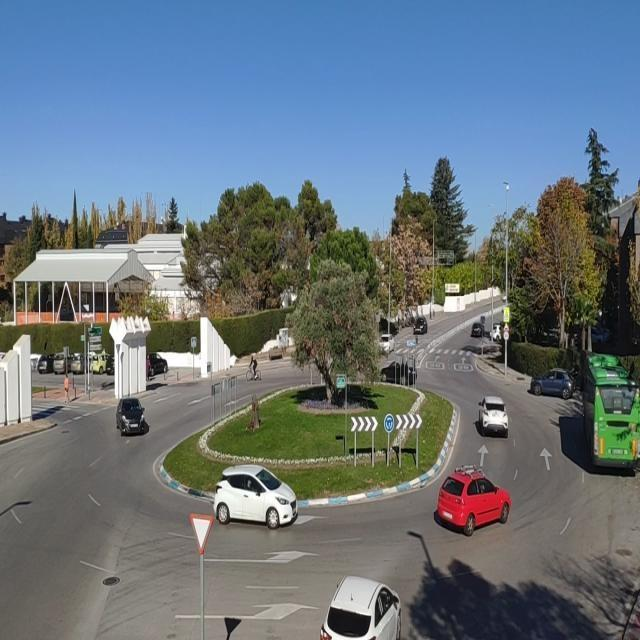Bus: (578, 348, 640, 472)
Car: (211, 463, 298, 530), (436, 462, 510, 537), (321, 574, 401, 640), (529, 367, 575, 400), (478, 396, 508, 437), (116, 398, 145, 437), (379, 361, 416, 386), (145, 352, 170, 376), (53, 350, 73, 375), (90, 354, 111, 374), (36, 353, 55, 373), (379, 333, 396, 353), (71, 352, 86, 374), (414, 316, 428, 336), (105, 352, 116, 376), (591, 325, 604, 344), (491, 324, 504, 342), (471, 322, 485, 337)
Cycle: (245, 365, 261, 381)
